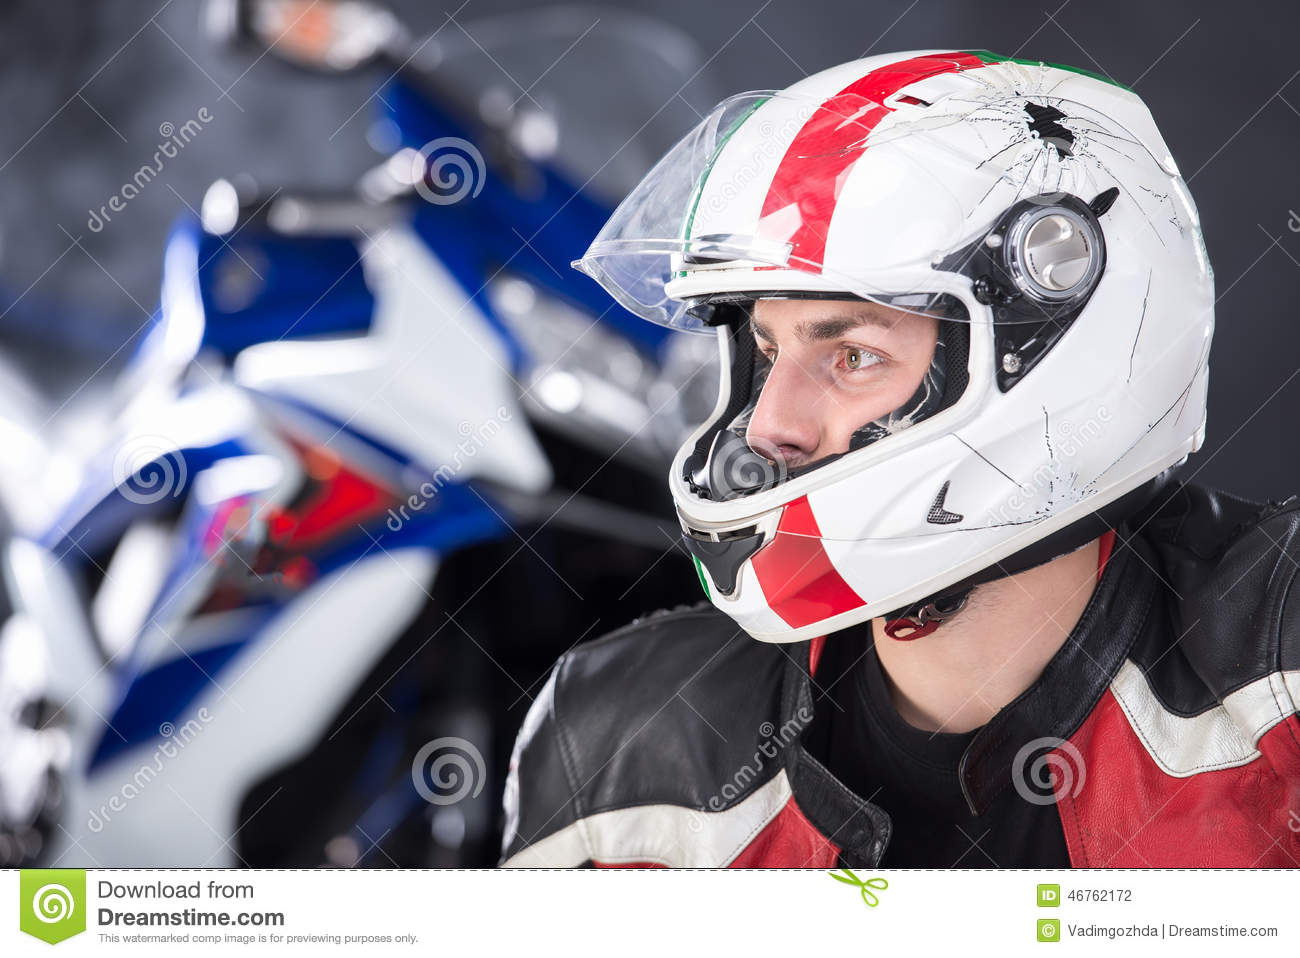helmet: (651, 51, 1236, 666)
